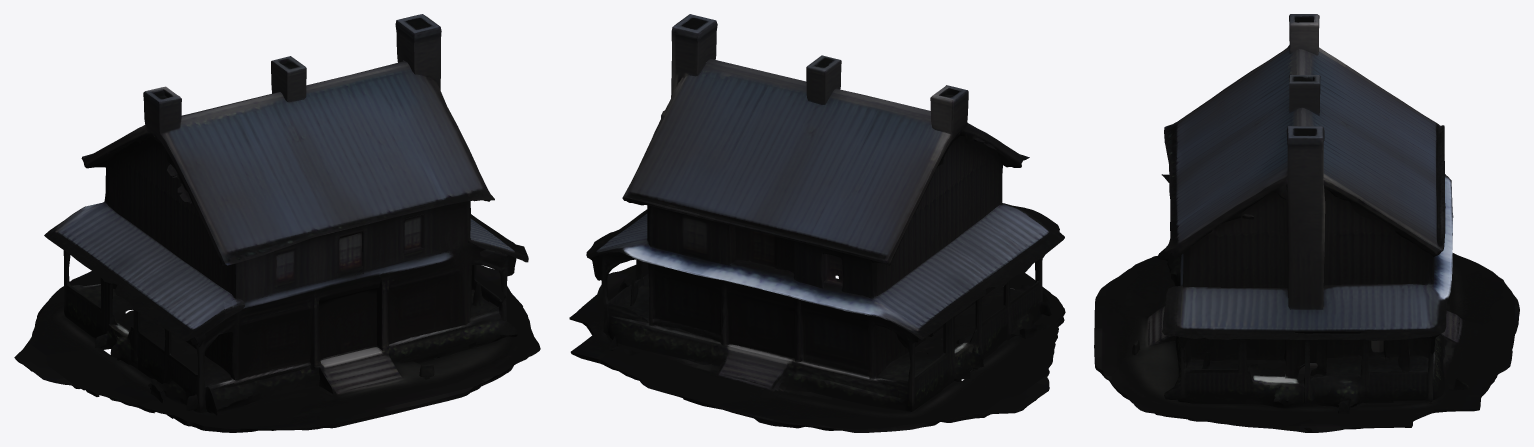
File: farmhouse.glb
The picture shows the model from 3 angles, left to right: view 1: azimuth 30°, elevation 25°; view 2: azimuth 150°, elevation 25°; view 3: azimuth 270°, elevation 25°; orthographic projection. The views are drawn at different scales.
Parts seen in each view (by area): view 1: geometry_0; view 2: geometry_0; view 3: geometry_0.
Part boxes in pixels (box(x1,y1,x2,y2)): geometry_0: box(14, 14, 540, 432); geometry_0: box(569, 14, 1065, 432); geometry_0: box(1094, 14, 1519, 432).
Size of the model in its own units: 0.9496 by 0.5703 by 0.8037.
1 material, 1 textured.
